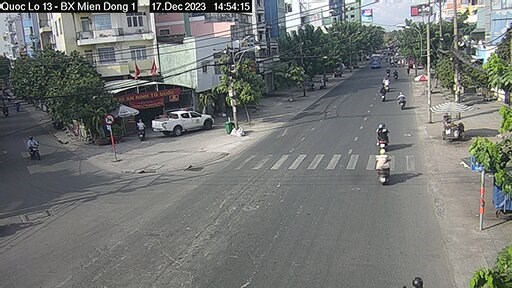car: (142, 104, 214, 136)
motorbike: (371, 148, 393, 182), (377, 86, 403, 113), (375, 118, 393, 143), (397, 89, 412, 112)
